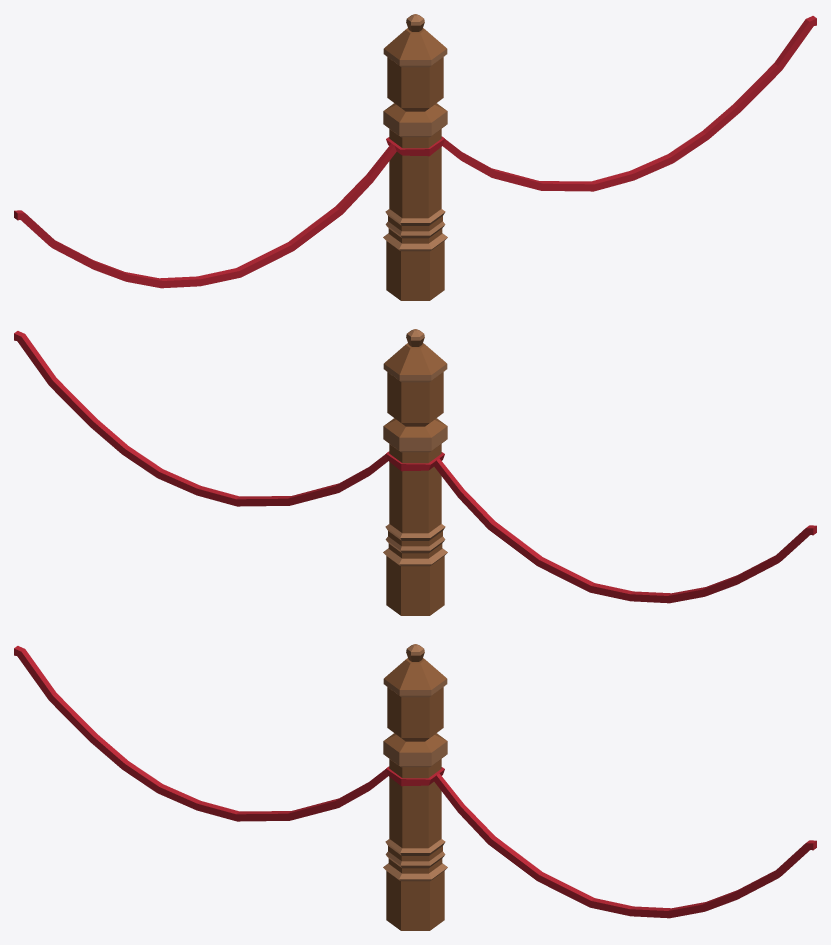
File: delh_prop_03.fbx
3 renders of one model, top to bottom at view 1: azimuth 30°, elevation 25°; view 2: azimuth 150°, elevation 25°; view 3: azimuth 330°, elevation 25°, orthographic.
Parts seen in each view (by area): view 1: delh_prop_03_pillar, delh_prop_03_rope; view 2: delh_prop_03_pillar, delh_prop_03_rope; view 3: delh_prop_03_pillar, delh_prop_03_rope.
Part boxes in pixels (left/top/right/bottom): delh_prop_03_pillar: left=383, top=14, right=447, bottom=300; delh_prop_03_rope: left=14, top=16, right=816, bottom=288; delh_prop_03_pillar: left=383, top=329, right=447, bottom=615; delh_prop_03_rope: left=14, top=331, right=816, bottom=603; delh_prop_03_pillar: left=383, top=644, right=447, bottom=930; delh_prop_03_rope: left=14, top=646, right=816, bottom=918.
Bounding box in the file's own units: 270 × 88.94 × 19.13.
